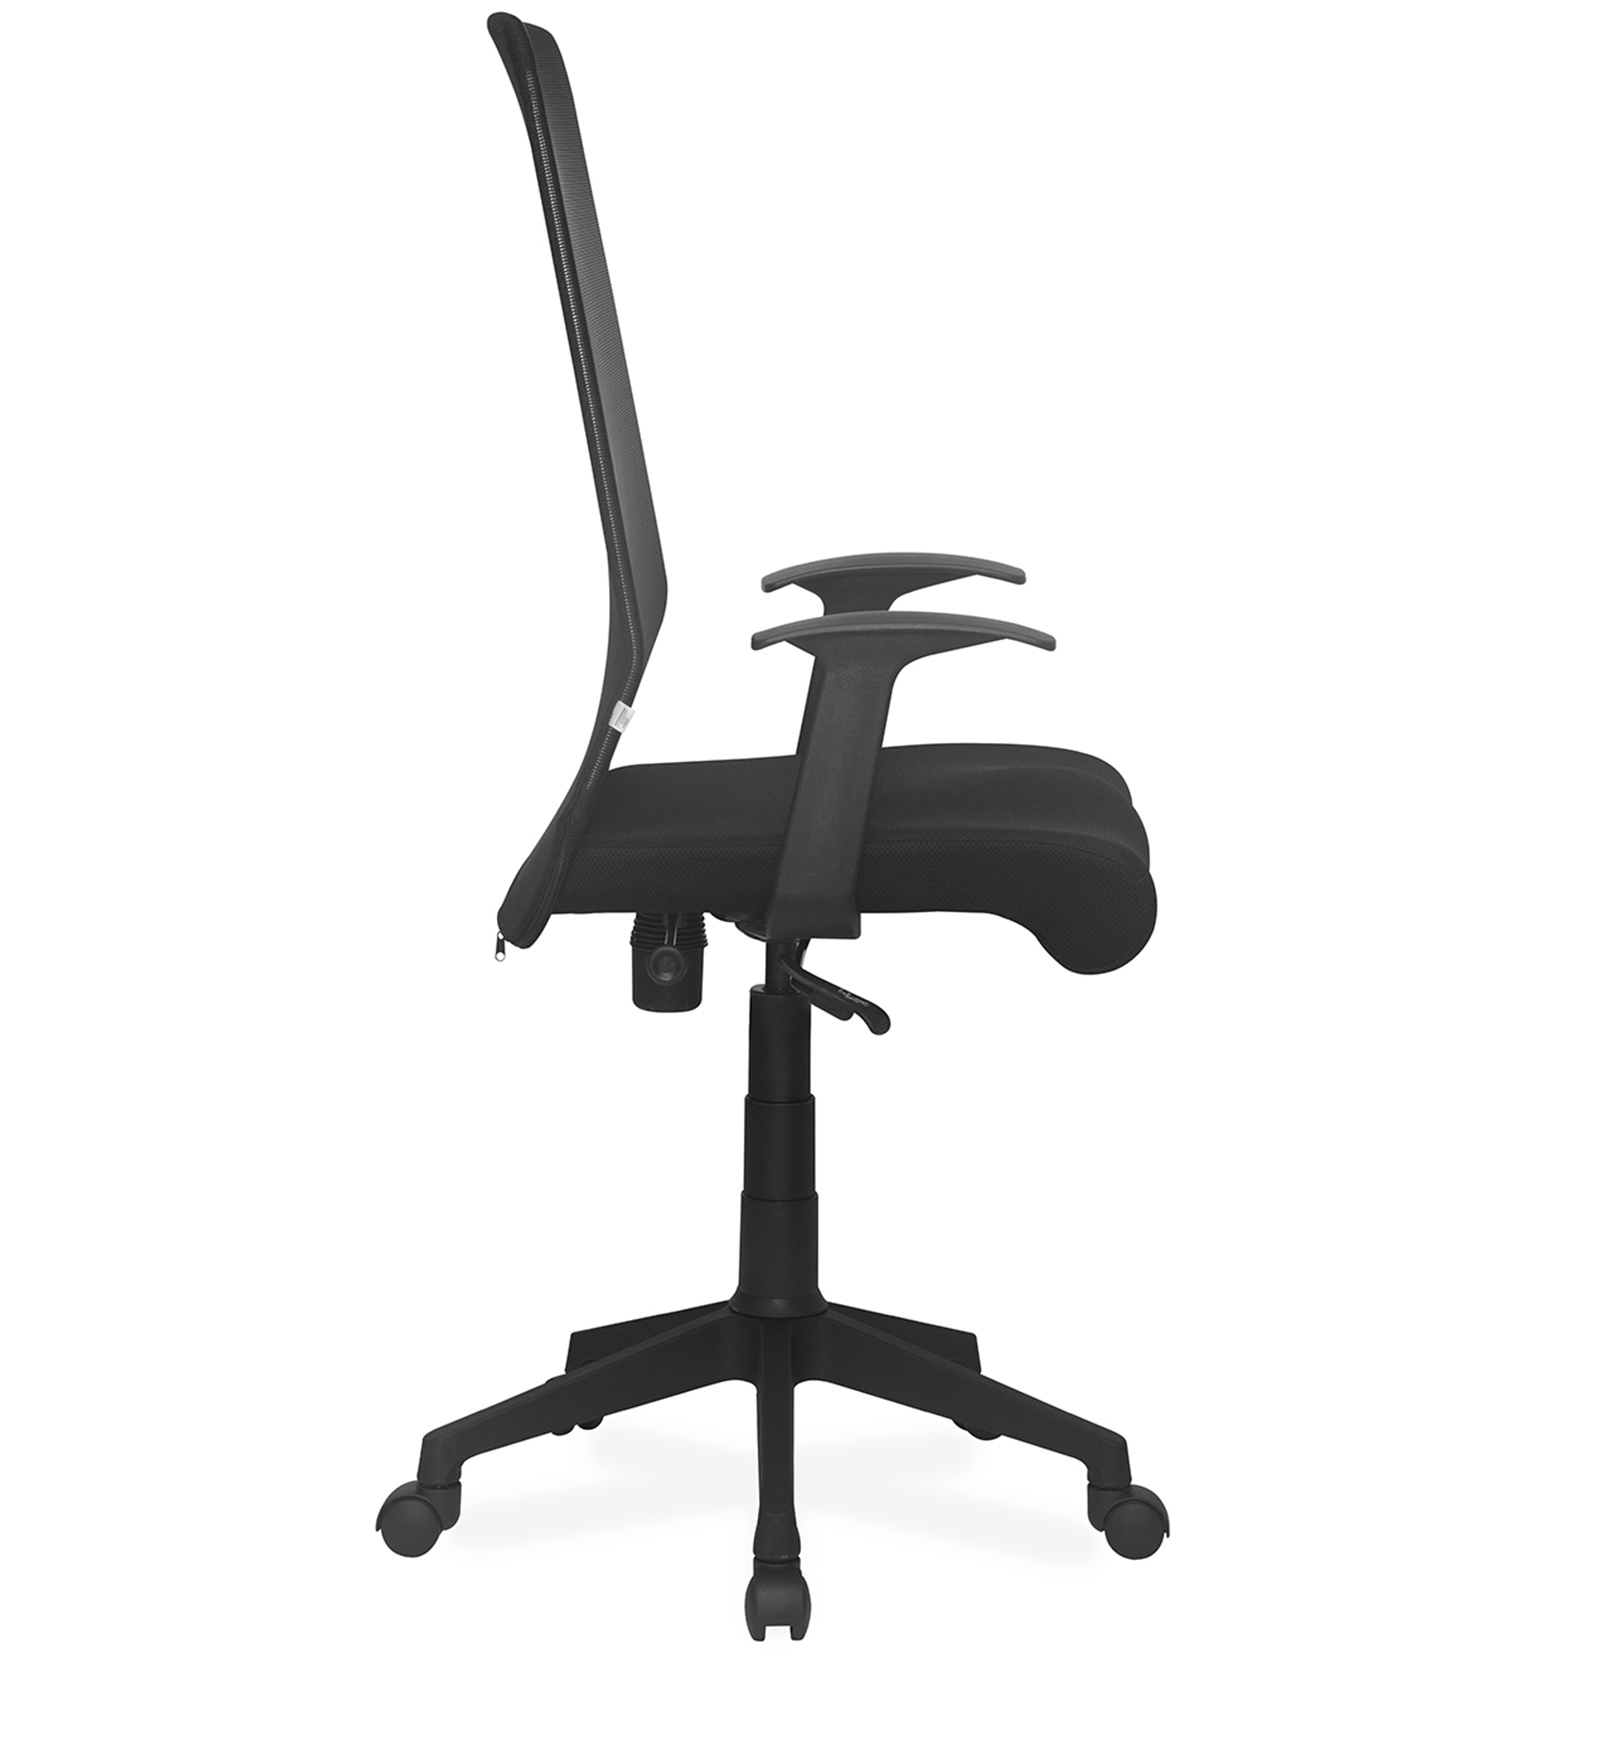Teak Wood Rocking Chair in Walnut Finish by Furniease: (392, 20, 1283, 1643)
